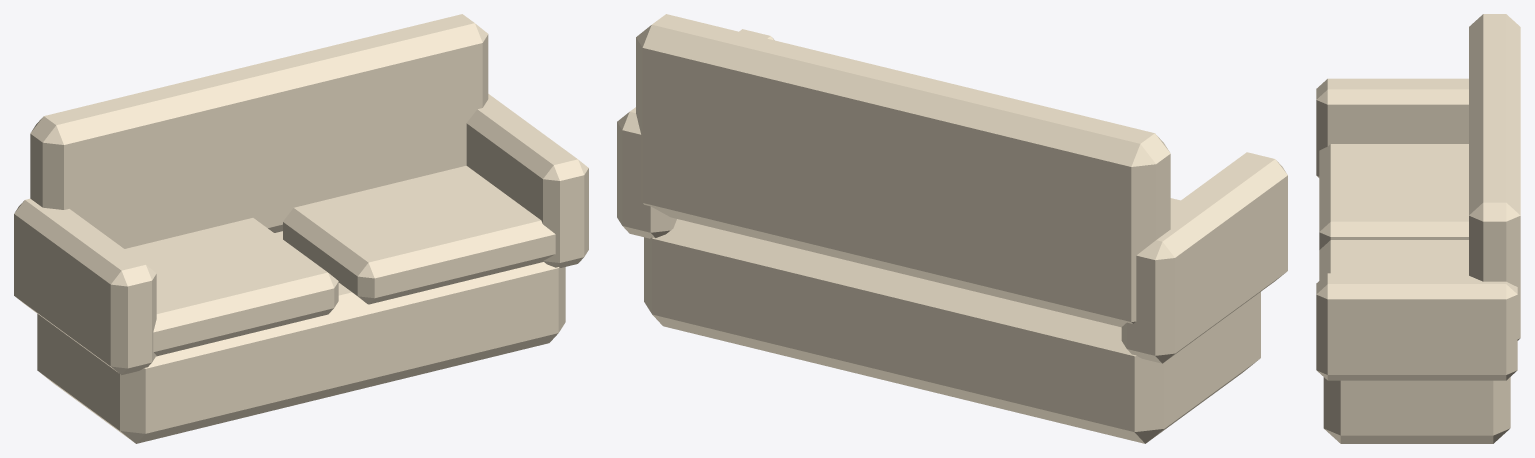
3 renders of one model, left to right at view 1: azimuth 30°, elevation 25°; view 2: azimuth 150°, elevation 25°; view 3: azimuth 270°, elevation 25°, orthographic. The views are drawn at different scales.
Visible parts, largest first — view 1: Back, Base, Seat cushion.001, Seat cushion, Arm, Arm.001; view 2: Back, Base, Arm, Arm.001; view 3: Arm.001, Seat cushion, Back, Base, Arm, Seat cushion.001.
Boxes of the visible parts, <box> form: Back: <box>30,14,488,248</box>; Base: <box>37,231,565,443</box>; Seat cushion.001: <box>283,165,555,304</box>; Seat cushion: <box>125,218,338,356</box>; Arm: <box>14,198,156,375</box>; Arm.001: <box>466,94,588,267</box>; Back: <box>636,14,1170,327</box>; Base: <box>644,219,1260,443</box>; Arm: <box>1121,152,1287,363</box>; Arm.001: <box>617,29,774,238</box>; Arm.001: <box>1316,273,1517,380</box>; Seat cushion: <box>1319,144,1468,249</box>; Back: <box>1469,14,1520,340</box>; Base: <box>1323,377,1510,443</box>; Arm: <box>1316,78,1468,177</box>; Seat cushion.001: <box>1319,240,1468,280</box>.
Size of the model in its own units: 1.77 by 0.93 by 0.71.
1 material, 1 textured.
